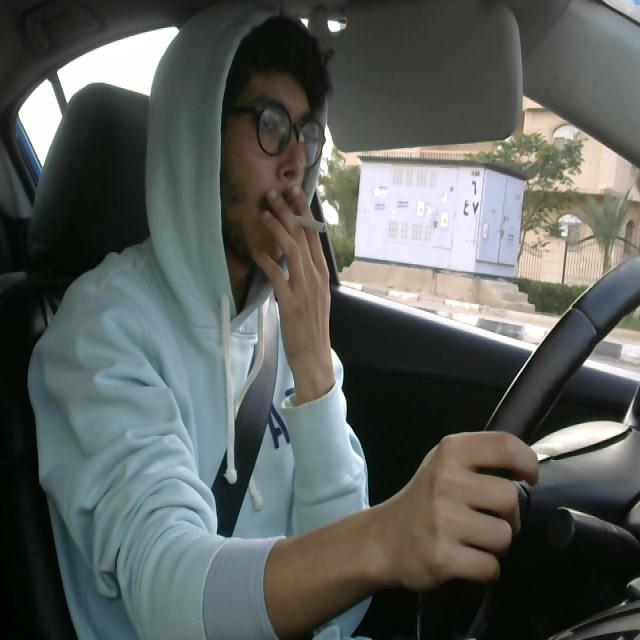smoking: (278, 204, 334, 238)
